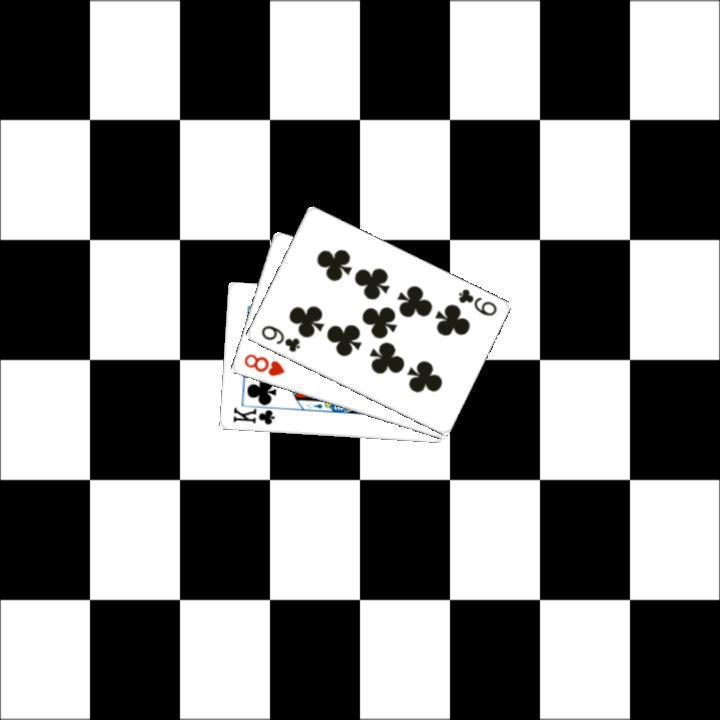8: (239, 350, 286, 378)
9: (453, 284, 499, 318), (256, 321, 302, 354)
K: (229, 400, 281, 427)
